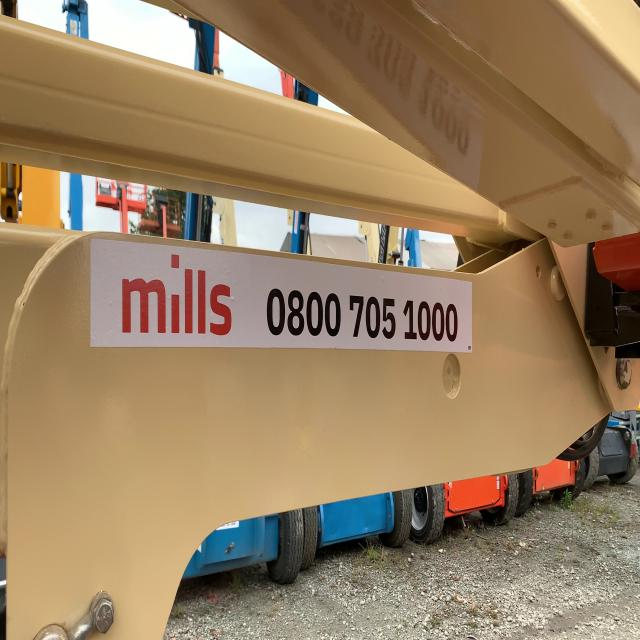Adesivo Longo: (87, 236, 475, 357)
